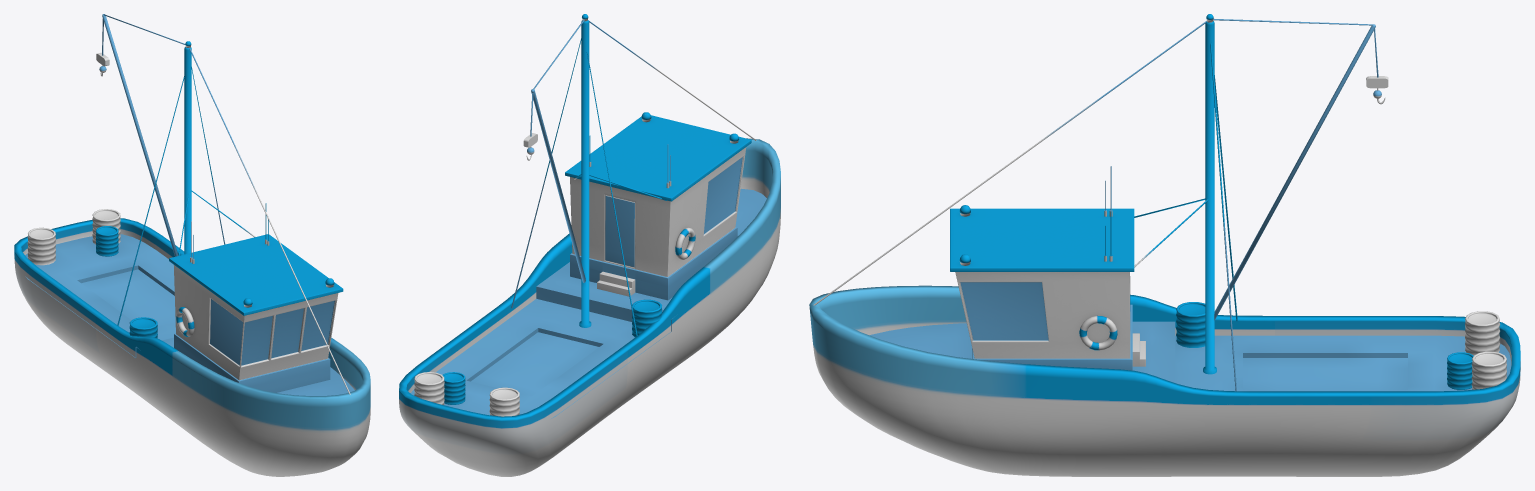
The model's file is fishing_boat.glb.
The picture shows the model from 3 angles, left to right: view 1: azimuth 30°, elevation 25°; view 2: azimuth 150°, elevation 25°; view 3: azimuth 270°, elevation 25°; orthographic projection. The views are drawn at different scales.
Parts seen in each view (by area): view 1: boat; view 2: boat; view 3: boat.
Part boxes in pixels (x1,y1,x2,y2): boat: (14, 14, 370, 476); boat: (399, 14, 780, 476); boat: (809, 14, 1520, 476).
Size of the model in its own units: 2.37 by 6.35 by 8.95.
Materials: 1 (1 with a texture image).
